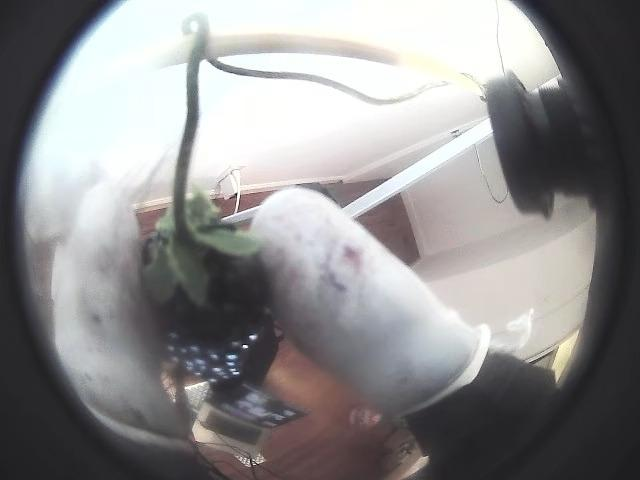berry: (141, 188, 273, 382)
gripper: (250, 187, 489, 413), (55, 180, 187, 441)
lense: (495, 0, 639, 479), (0, 0, 140, 479)
